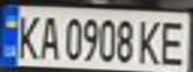0: (97, 15, 118, 63), (60, 14, 81, 62)
8: (115, 16, 139, 64)
9: (78, 15, 100, 63)
A: (36, 11, 63, 61)
E: (154, 16, 190, 68)
K: (12, 11, 42, 61), (136, 16, 166, 65)
